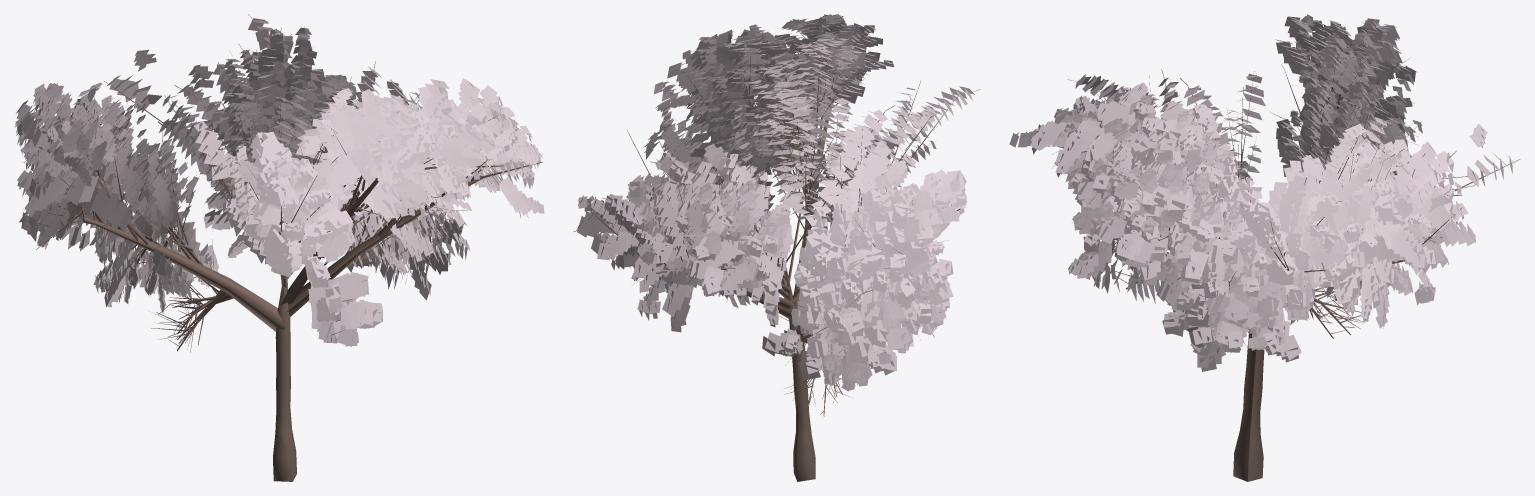
Rendered from sakura-natural-vase.glb.
The picture shows the model from 3 angles, left to right: view 1: azimuth 30°, elevation 25°; view 2: azimuth 150°, elevation 25°; view 3: azimuth 270°, elevation 25°; orthographic projection. The views are drawn at different scales.
Size of the model in its own units: 9.53 by 9.2 by 10.6.
